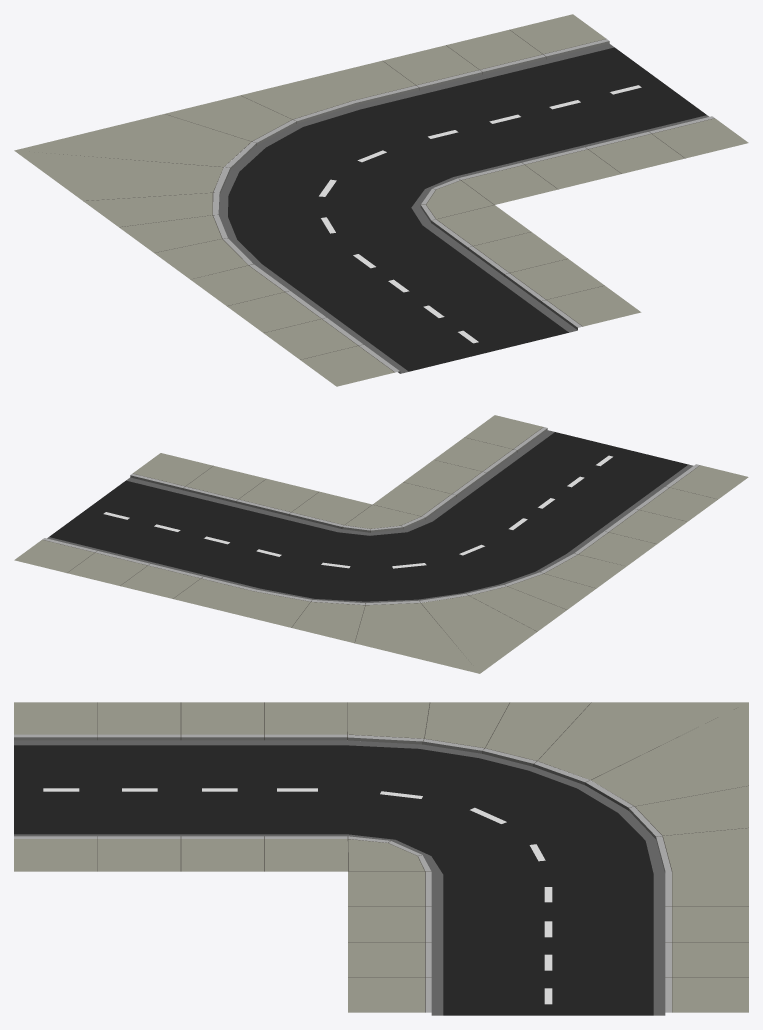
The model's file is Road-L-B.fbx.
3 views of the same model, one above another, from view 1: azimuth 30°, elevation 25°; view 2: azimuth 150°, elevation 25°; view 3: azimuth 270°, elevation 25° (orthographic). The views are drawn at different scales.
Visible parts, largest first — view 1: Road, Sides; view 2: Road, Sides; view 3: Road, Sides.
Part boxes in pixels (x1,y1,x2,y2): Road: (218, 43, 709, 373); Sides: (14, 14, 748, 386); Road: (47, 430, 693, 603); Sides: (14, 415, 748, 673); Road: (14, 740, 665, 1015); Sides: (14, 702, 748, 1012).
Size of what is drawn, in the model's own units: 44 by 0.2059 by 44.
